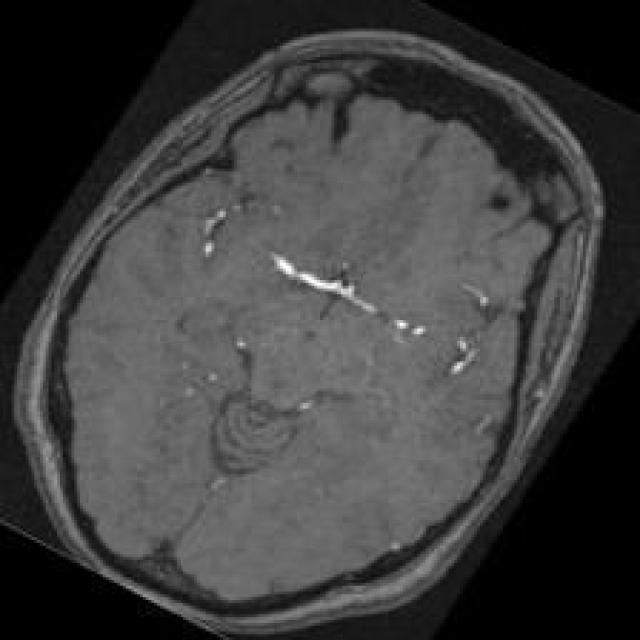no_tumor: (27, 27, 609, 640)
